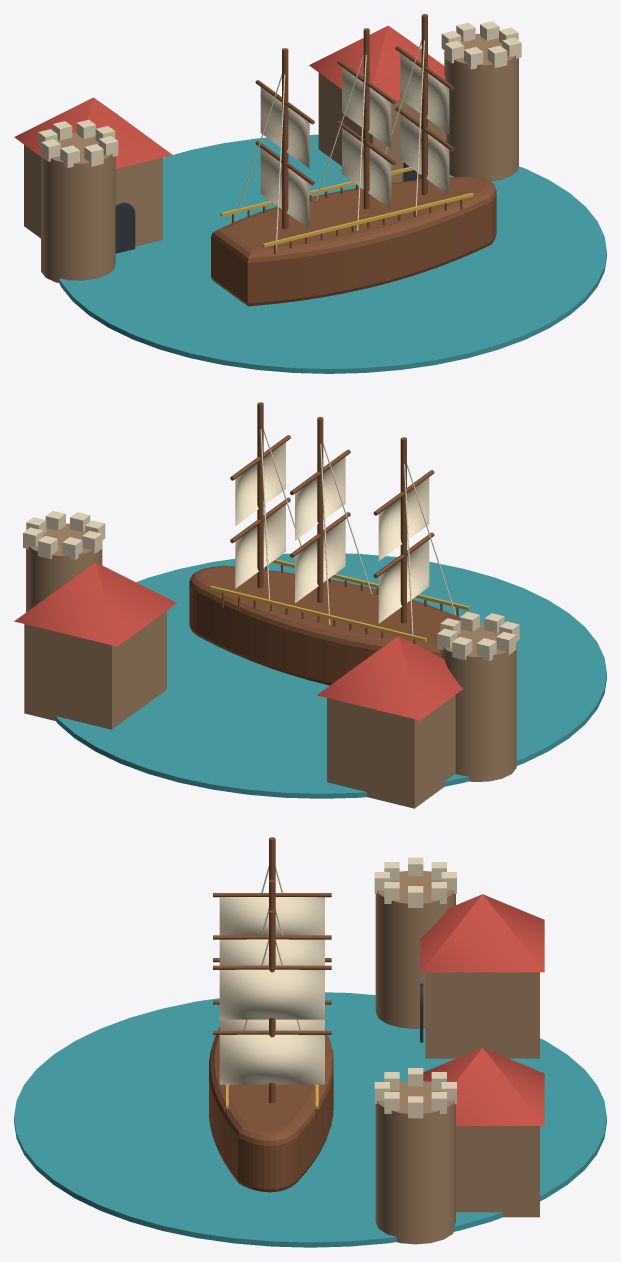
Rendered from pirates.glb.
The picture shows the model from 3 angles, top to bottom: view 1: azimuth 30°, elevation 25°; view 2: azimuth 150°, elevation 25°; view 3: azimuth 270°, elevation 25°; orthographic projection. The views are drawn at different scales.
Bounding box in the file's own units: 6.2 × 2.9 × 6.2.
